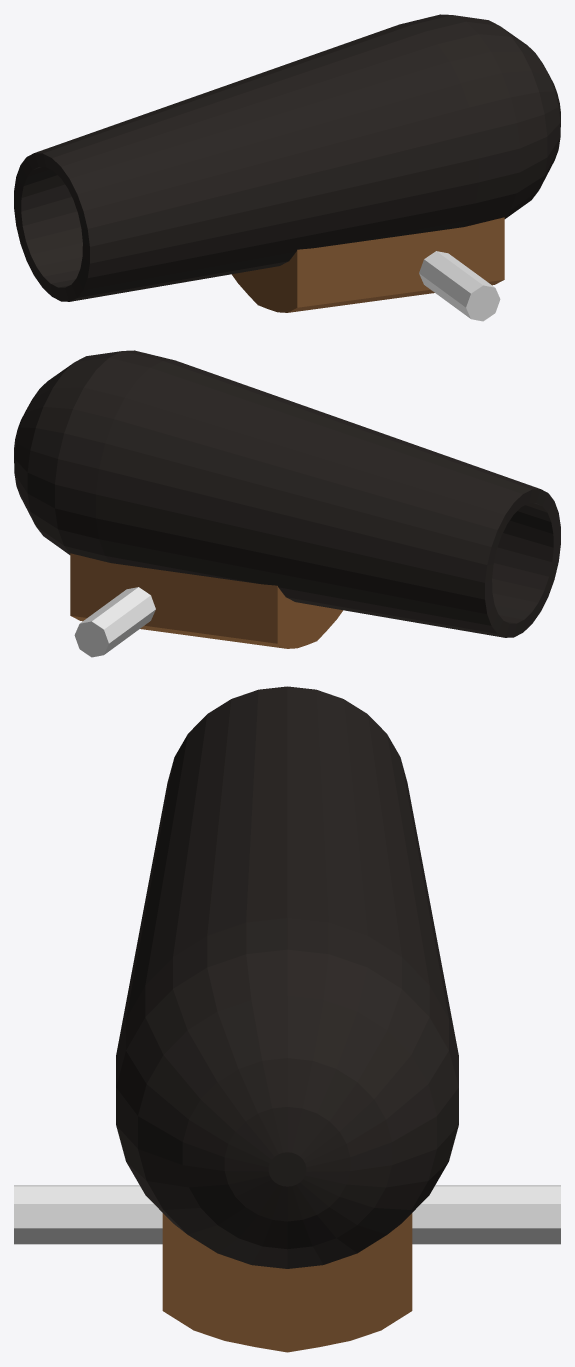
The model's file is Cannon Body.fbx.
The picture shows the model from 3 angles, top to bottom: view 1: azimuth 30°, elevation 25°; view 2: azimuth 150°, elevation 25°; view 3: azimuth 270°, elevation 25°; orthographic projection. The views are drawn at different scales.
Parts seen in each view (by area): view 1: Body, Wood, Metal; view 2: Body, Wood, Metal; view 3: Body, Wood, Metal.
Boxes of the visible parts, box(x1,y1,x2,y2) form: Body: box(14, 14, 560, 301); Wood: box(232, 217, 504, 312); Metal: box(419, 251, 500, 321); Body: box(14, 350, 560, 637); Wood: box(70, 553, 342, 648); Metal: box(74, 587, 155, 657); Body: box(116, 686, 458, 1268); Wood: box(162, 1213, 412, 1352); Metal: box(14, 1185, 560, 1244).
Size of the model in its own units: 727 by 357 by 438.
